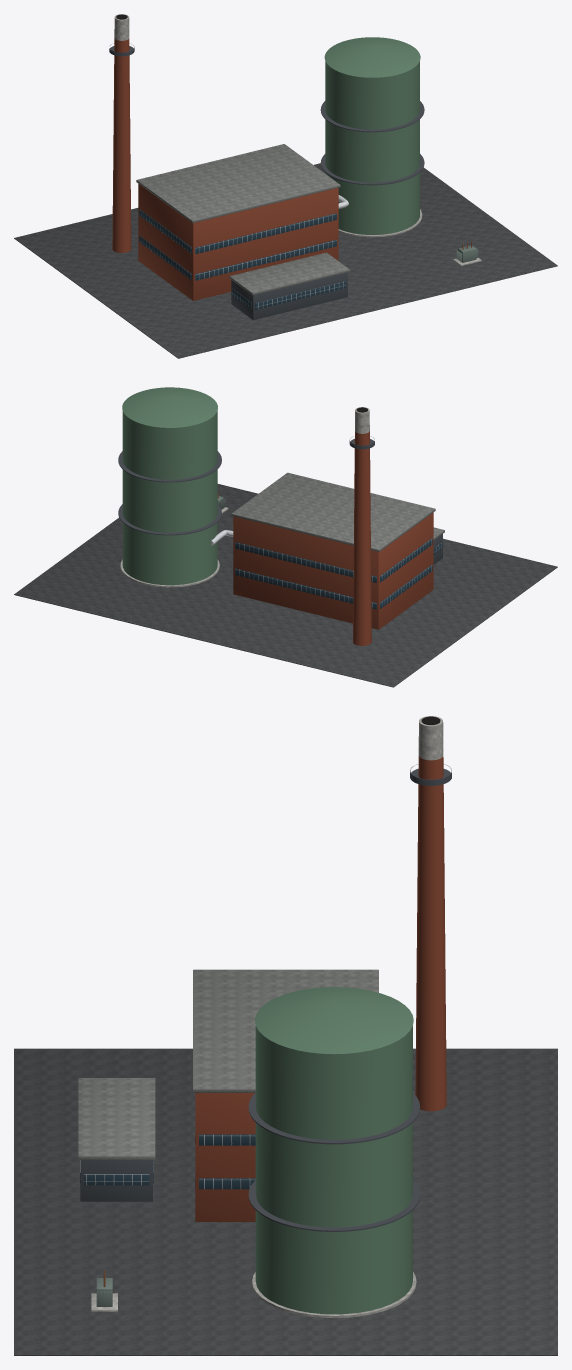
File: district-heating-plant.glb
3 renders of one model, top to bottom at view 1: azimuth 30°, elevation 25°; view 2: azimuth 150°, elevation 25°; view 3: azimuth 270°, elevation 25°, orthographic. The views are drawn at different scales.
Visible parts, largest first — view 1: District_Heating_Plant; view 2: District_Heating_Plant; view 3: District_Heating_Plant.
Boxes of the visible parts, <box> form: District_Heating_Plant: <box>14,14,557,358</box>; District_Heating_Plant: <box>14,387,557,687</box>; District_Heating_Plant: <box>14,716,557,1355</box>.
Size of the model in its own units: 120 by 70.3 by 90.
12 materials, 6 textured.
